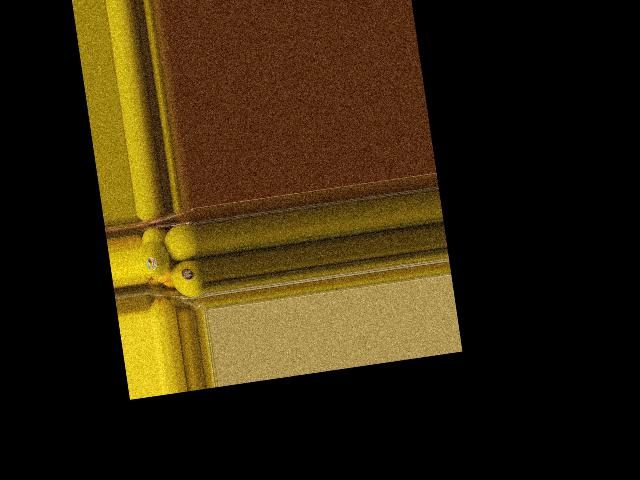apple: (139, 238, 171, 283)
